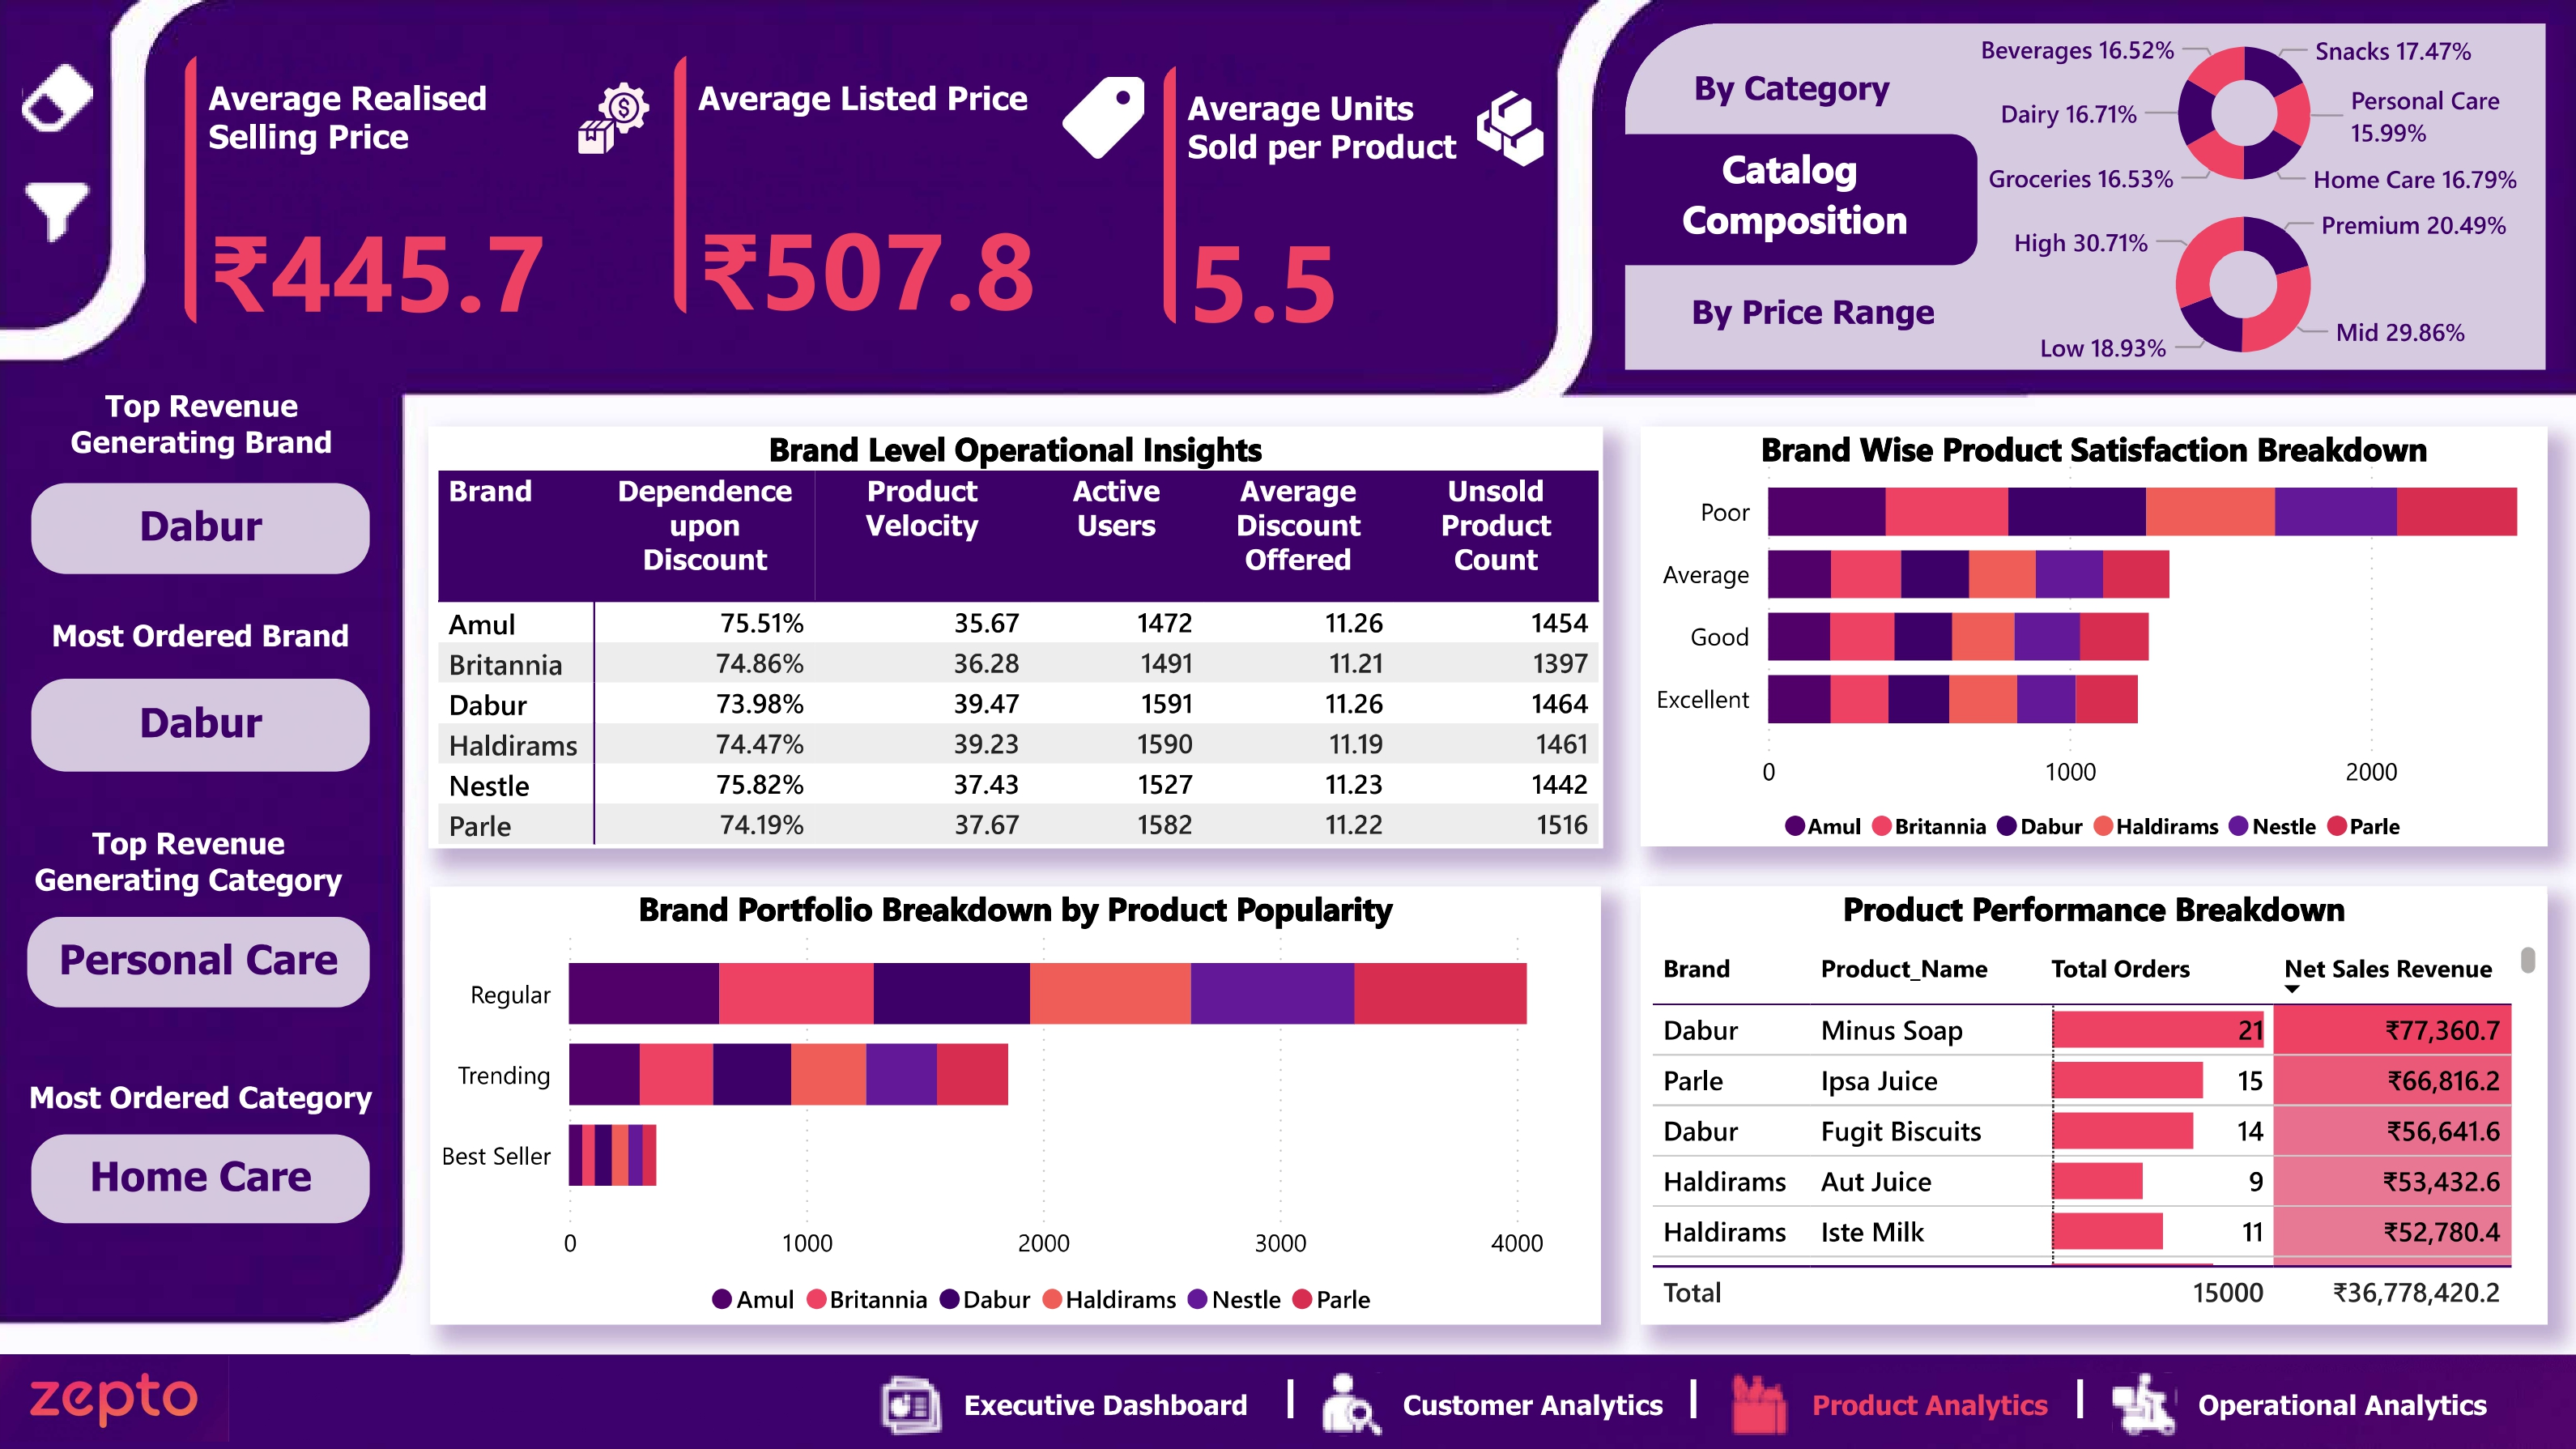

The page's visual inventory and layout, read from the dashboard file:
{"tool":"powerbi","page":{"name":"Product Analytics","canvas":[1280,720],"ordinal":2},"visuals":[{"type":"image","title":"Top Bar","box":[0,0,1280,717],"z":0},{"type":"image","title":"Bottom Bar","box":[0,673.3,1280,46.7],"z":1000},{"type":"image","title":"Zepto Logo","box":[0,672.9,114.3,44.3],"z":2000},{"type":"actionButton","title":"Clear Filter Button","box":[7.1,21.4,43.9,56.1],"z":3000},{"type":"actionButton","title":"Filter Button","box":[7,77,44,57],"z":4000},{"type":"cardVisual","title":"Avg. Realised Price Card","fields":{"Data":["Measures Table.Average Product Retail Price"]},"box":[86.7,28.3,255,140],"z":5000},{"type":"cardVisual","title":"Avg. Listed Price Card","fields":{"Data":["Measures Table.Average Product Price"]},"box":[330.1,28.2,255.2,135],"z":6000},{"type":"cardVisual","title":"Avg. Units Sold Card","fields":{"Data":["Measures Table.Average Units Sold per Product"]},"box":[573,33.1,213.5,135],"z":7000},{"type":"shape","title":"Top Revenue Generating Brand","box":[15,192.5,171.2,115],"z":8000},{"type":"shape","title":"Most Ordered Brand","box":[7.1,307.1,185.7,44.3],"z":9000},{"type":"shape","title":"Top Revenue Generating Category","box":[8.6,410,170,41.4],"z":10000},{"type":"shape","title":"Most Ordered Category","box":[7.3,536.4,185.5,110],"z":11000},{"type":"shape","title":"Brand Portfolio Breakdown by Product Popularity","box":[213.8,441.2,581.2,216.2],"z":12000},{"type":"card","title":"Top Brand Rev Card","fields":{"Values":["Min(Products.Brand)"]},"box":[14.5,240,170,47.3],"z":13000},{"type":"card","title":"Top Brand Ord Card","fields":{"Values":["Min(Products.Brand)"]},"box":[14.5,337.3,170,47.3],"z":14000},{"type":"card","title":"Top Category Rev Card","fields":{"Values":["Min(Products.Category)"]},"box":[12.5,455,172,47],"z":15000},{"type":"card","title":"Top Category Ord Card","fields":{"Values":["Min(Products.Category)"]},"box":[14.5,562.7,170,46.4],"z":16000},{"type":"shape","title":"Brand Level Operational Insights","box":[213,213,583,209],"z":17000},{"type":"shape","title":"Product Performance Breakdown","box":[815,441.2,450,216.2],"z":18000},{"type":"shape","title":"Brand Wise Product Satisfaction Breakdown","box":[815,212.5,450,208.8],"z":19000},{"type":"shape","title":"Pie Charts BG","box":[807.3,12.7,458.2,171.8],"z":20000},{"type":"tableEx","title":"Product Performance Table","fields":{"Values":["Products.Brand","Products.Product_Name","Measures Table.Total Orders","Measures Table.Net Sales Revenue"]},"box":[815,465,450,193.8],"z":21000},{"type":"barChart","fields":{"Category":["Ratings.Product Rating Type"],"Y":["Measures Table.Total Orders"],"Series":["Products.Brand"]},"box":[815,222.5,450,201.2],"z":22000},{"type":"pivotTable","title":"Brand Level Insights Matrix","fields":{"Rows":["Products.Brand"],"Values":["Measures Table.Dependence upon Discount","Measures Table.Product Velocity","Measures Table.Active Users","Measures Table.Average Discount Offered","Measures Table.No Sale Product Count"]},"box":[213.3,234.7,593.3,196],"z":23000},{"type":"barChart","fields":{"Category":["Products.Popularity"],"Y":["Measures Table.Product Count"],"Series":["Products.Brand"]},"box":[213.8,455,611.2,203.8],"z":24000},{"type":"donutChart","fields":{"Category":["Products.Category"],"Y":["Measures Table.Product Count"]},"box":[948.9,15.6,331.1,83.3],"z":25000},{"type":"donutChart","fields":{"Category":["Products.Price Categorisation"],"Y":["Measures Table.Product Count"]},"box":[970,100,288.3,85],"z":26000},{"type":"textbox","box":[795.6,67.8,186.7,65.6],"z":27000},{"type":"textbox","box":[805,30,170,37.5],"z":28000},{"type":"textbox","box":[807.5,141.2,185,33.8],"z":29000},{"type":"actionButton","title":"Customer Navigation","box":[652.2,677.6,177.6,40.3],"z":31000},{"type":"actionButton","title":"Exec Dashboard Navigation","box":[432.8,677.6,191,40.3],"z":32000},{"type":"actionButton","title":"Product Navigation","box":[853.7,677.6,167.2,40.3],"z":33000},{"type":"actionButton","title":"Operations Navigation","box":[1044.8,677.6,194,40.3],"z":34000},{"type":"textbox","title":"Divider 3","box":[1020.9,673.1,23.9,44.8],"z":35000},{"type":"textbox","title":"Divider 1","box":[613.4,673.1,55.2,46.3],"z":36000},{"type":"textbox","title":"Divider 2","box":[817.9,673.1,46.3,46.3],"z":37000}]}

Visuals, with their boxes in screenshot pixels (x1, y1, x2, y2), scaled from the page's 1280x720 canvas onto the 2576x1449 screenshot:
"Top Bar" image: <box>0,0,2575,1443</box>
"Bottom Bar" image: <box>0,1355,2575,1448</box>
"Zepto Logo" image: <box>0,1354,230,1443</box>
"Clear Filter Button" actionButton: <box>15,43,103,156</box>
"Filter Button" actionButton: <box>14,155,103,270</box>
"Avg. Realised Price Card" cardVisual: <box>174,57,688,339</box>
"Avg. Listed Price Card" cardVisual: <box>664,57,1178,329</box>
"Avg. Units Sold Card" cardVisual: <box>1153,66,1583,339</box>
"Top Revenue Generating Brand" shape: <box>30,387,375,619</box>
"Most Ordered Brand" shape: <box>15,618,388,707</box>
"Top Revenue Generating Category" shape: <box>17,825,360,909</box>
"Most Ordered Category" shape: <box>15,1080,388,1301</box>
"Brand Portfolio Breakdown by Product Popularity" shape: <box>430,888,1600,1323</box>
"Top Brand Rev Card" card: <box>29,483,372,578</box>
"Top Brand Ord Card" card: <box>29,679,372,774</box>
"Top Category Rev Card" card: <box>25,916,372,1010</box>
"Top Category Ord Card" card: <box>29,1132,372,1225</box>
"Brand Level Operational Insights" shape: <box>428,428,1602,850</box>
"Product Performance Breakdown" shape: <box>1640,888,2546,1323</box>
"Brand Wise Product Satisfaction Breakdown" shape: <box>1640,428,2546,848</box>
"Pie Charts BG" shape: <box>1624,26,2547,371</box>
"Product Performance Table" tableEx: <box>1640,935,2546,1326</box>
barChart - Ratings.Product Rating Type x Measures Table.Total Orders: <box>1640,448,2546,853</box>
"Brand Level Insights Matrix" pivotTable: <box>429,472,1624,867</box>
barChart - Products.Popularity x Measures Table.Product Count: <box>430,916,1660,1326</box>
donutChart - Products.Category x Measures Table.Product Count: <box>1910,32,2575,199</box>
donutChart - Products.Price Categorisation x Measures Table.Product Count: <box>1952,201,2532,373</box>
textbox: <box>1601,136,1977,268</box>
textbox: <box>1620,61,1962,136</box>
textbox: <box>1625,284,1998,352</box>
"Customer Navigation" actionButton: <box>1313,1364,1670,1445</box>
"Exec Dashboard Navigation" actionButton: <box>871,1364,1255,1445</box>
"Product Navigation" actionButton: <box>1718,1364,2054,1445</box>
"Operations Navigation" actionButton: <box>2102,1364,2493,1445</box>
"Divider 3" textbox: <box>2054,1354,2102,1445</box>
"Divider 1" textbox: <box>1234,1354,1346,1448</box>
"Divider 2" textbox: <box>1646,1354,1739,1448</box>
